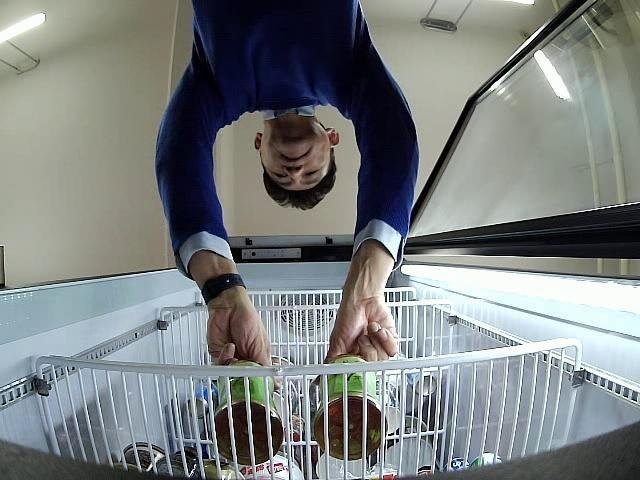19_17cha: (314, 351, 388, 460), (216, 358, 285, 464)
